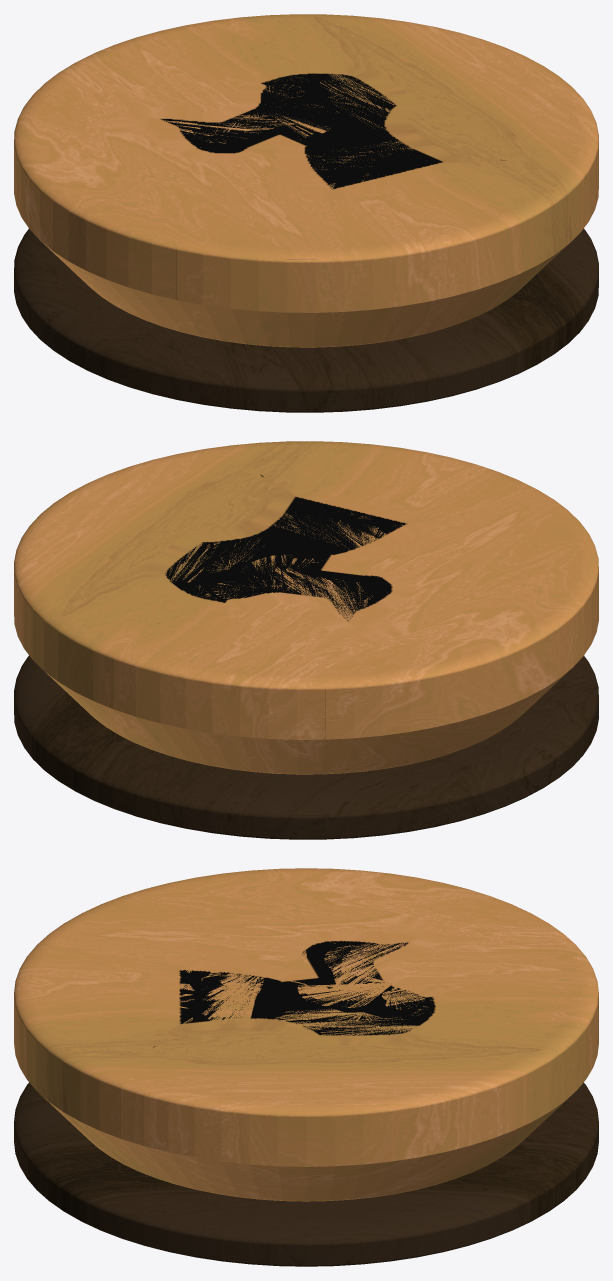
File: light_elephant.fbx
The picture shows the model from 3 angles, top to bottom: view 1: azimuth 30°, elevation 25°; view 2: azimuth 150°, elevation 25°; view 3: azimuth 270°, elevation 25°; orthographic projection.
Parts seen in each view (by area): view 1: PedestalTopPart_Cylinder.002, PedestalBottomPart_Cylinder.001; view 2: PedestalTopPart_Cylinder.002, PedestalBottomPart_Cylinder.001; view 3: PedestalTopPart_Cylinder.002, PedestalBottomPart_Cylinder.001.
Boxes of the visible parts, left/top/right/bottom form: PedestalTopPart_Cylinder.002: left=14, top=14, right=598, bottom=347; PedestalBottomPart_Cylinder.001: left=14, top=228, right=598, bottom=412; PedestalTopPart_Cylinder.002: left=14, top=441, right=598, bottom=774; PedestalBottomPart_Cylinder.001: left=14, top=655, right=598, bottom=839; PedestalTopPart_Cylinder.002: left=14, top=868, right=598, bottom=1201; PedestalBottomPart_Cylinder.001: left=14, top=1082, right=598, bottom=1266.
Size of the model in its own units: 30 by 9.09 by 30.
Materials: 2 (2 with a texture image).
